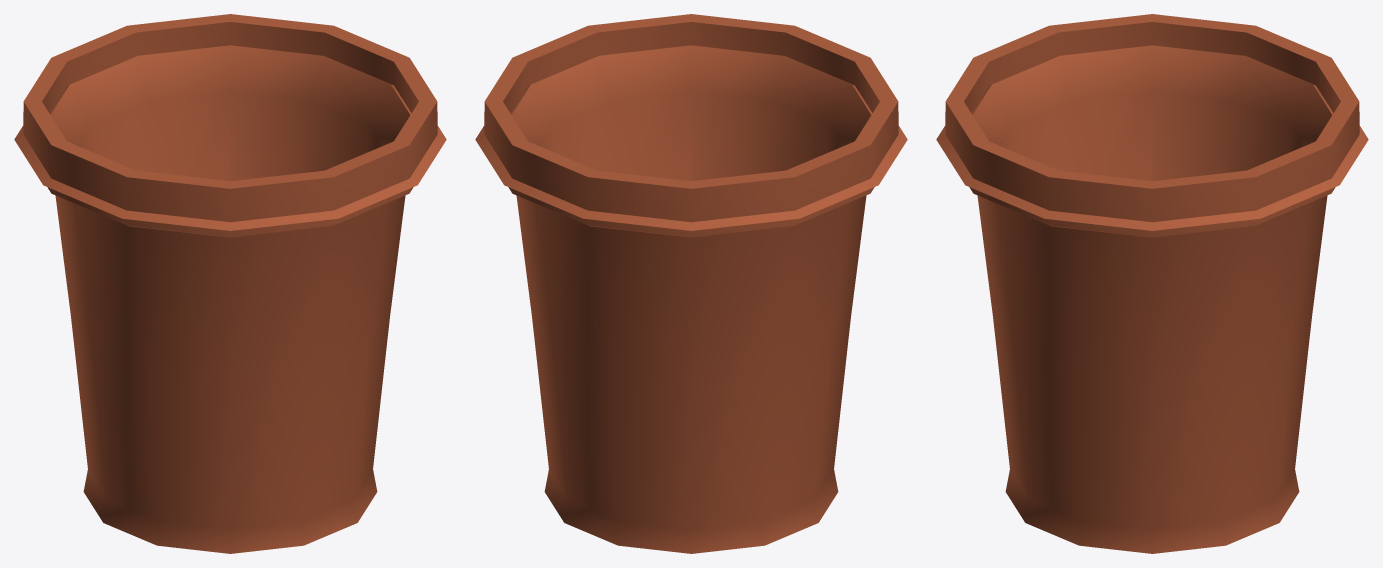
File: pot_terracotta_8in.far.glb
3 renders of one model, left to right at view 1: azimuth 30°, elevation 25°; view 2: azimuth 150°, elevation 25°; view 3: azimuth 270°, elevation 25°, orthographic.
Parts seen in each view (by area): view 1: pot_terracotta_8in; view 2: pot_terracotta_8in; view 3: pot_terracotta_8in.
Part boxes in pixels (bbox=[...]): pot_terracotta_8in: bbox=[14, 14, 446, 553]; pot_terracotta_8in: bbox=[475, 14, 907, 553]; pot_terracotta_8in: bbox=[936, 14, 1368, 553].
Bounding box in the file's own units: 0.2124 × 0.2116 × 0.2124.
